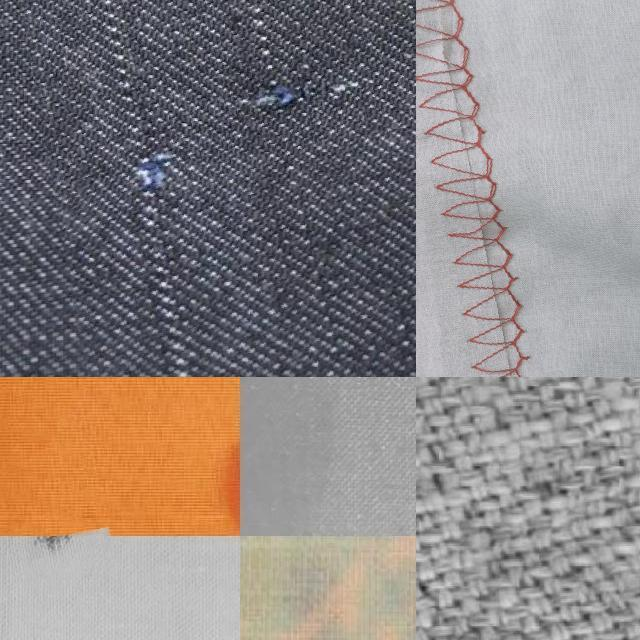Hole: (9, 531, 115, 579)
Stitch: (416, 0, 573, 377)
Thread_other: (28, 0, 416, 377)
